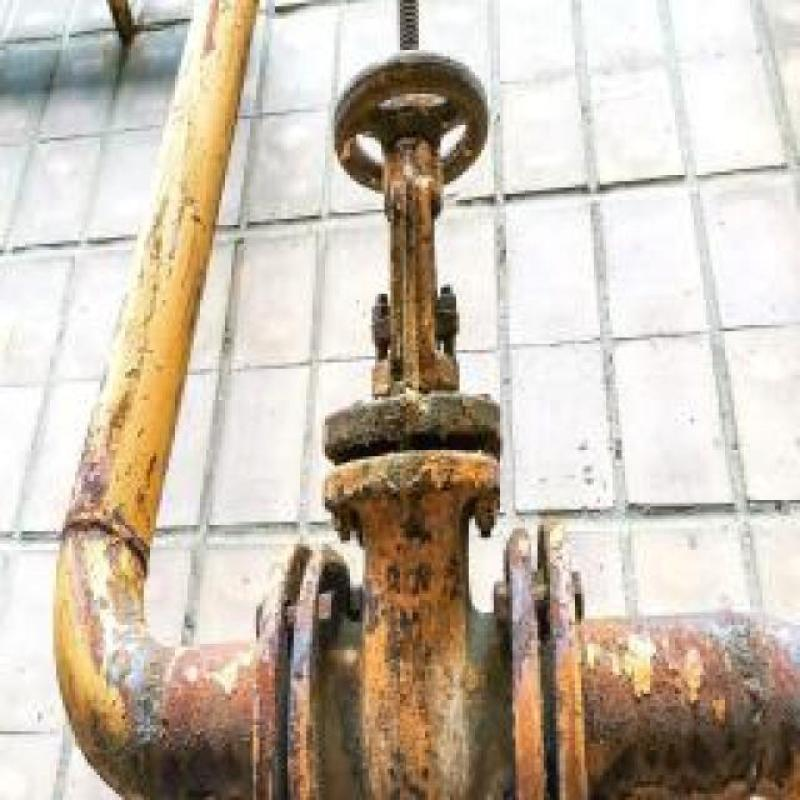corrosion: (85, 604, 800, 798), (317, 0, 505, 605)
